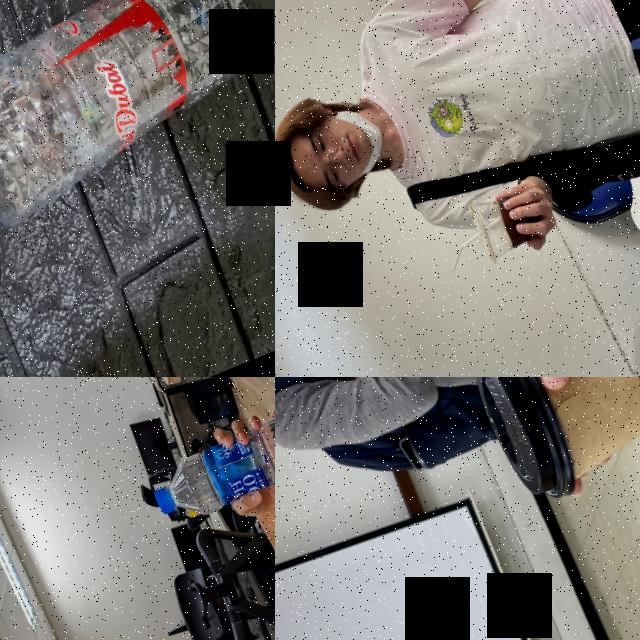bottle: (0, 0, 275, 262), (142, 410, 275, 532)
cup: (458, 377, 640, 511), (462, 177, 548, 264)
